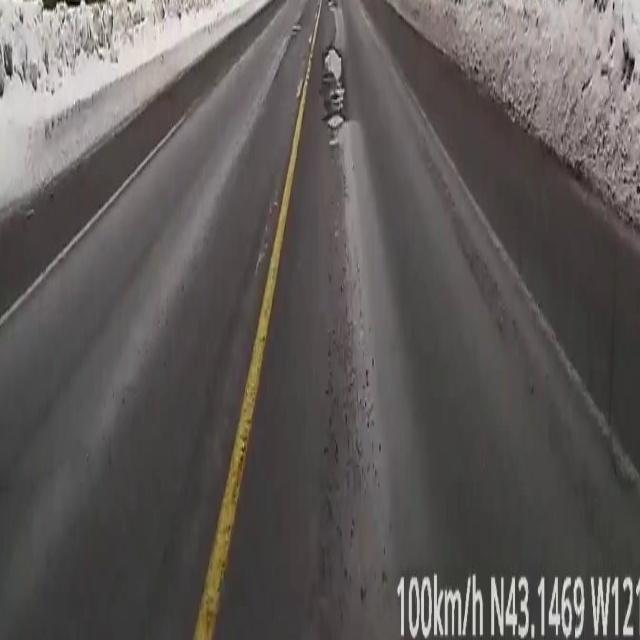pothole: (322, 45, 345, 136), (328, 0, 338, 8)
